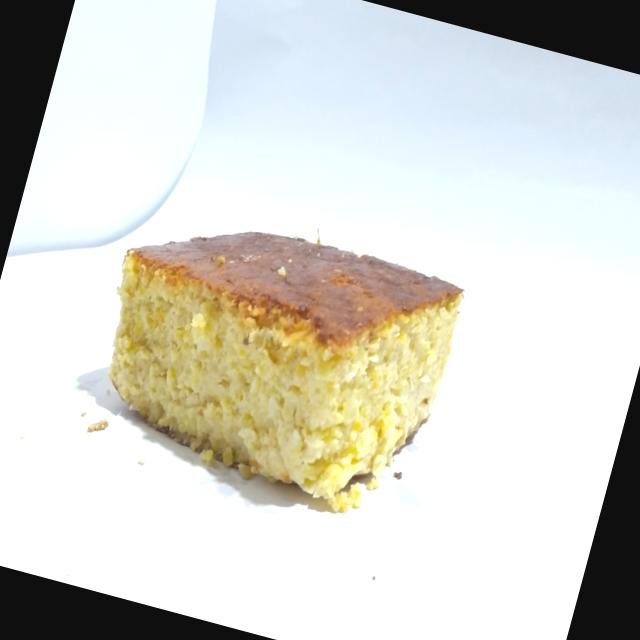Chipa_Guazu: (61, 176, 486, 542)
